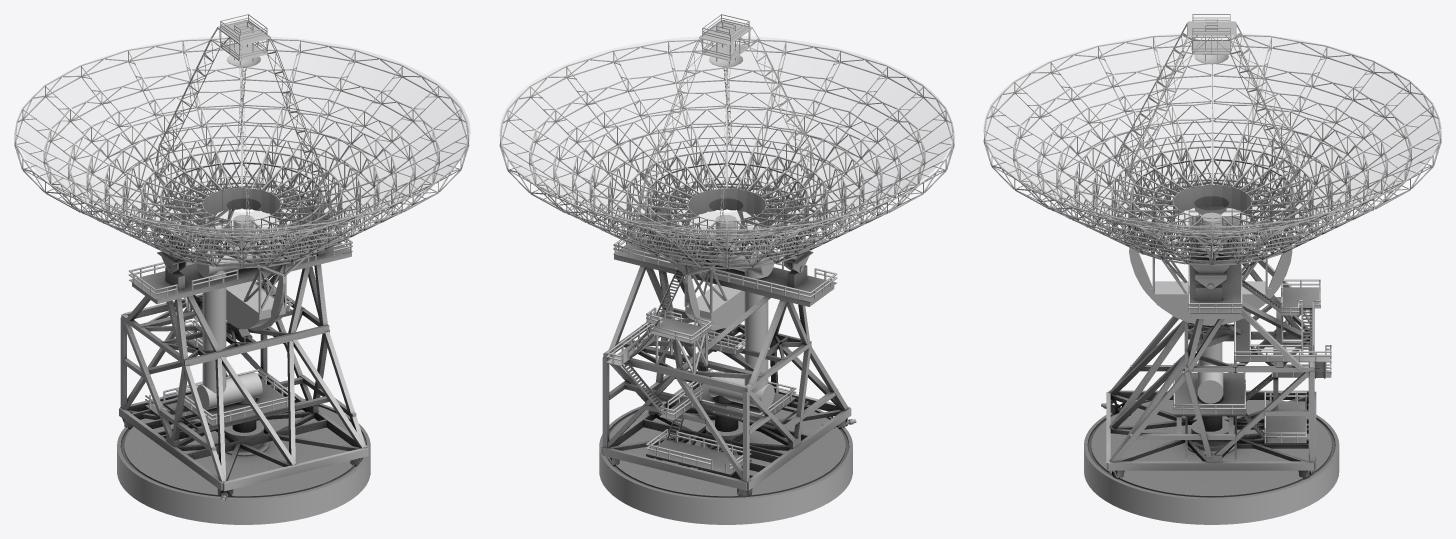
3 renders of one model, left to right at view 1: azimuth 30°, elevation 25°; view 2: azimuth 150°, elevation 25°; view 3: azimuth 270°, elevation 25°, orthographic.
Parts seen in each view (by area): view 1: dish, truss_dish, azimuth, dish_center, base, elevation, quad; view 2: dish, truss_dish, azimuth, dish_center, base, elevation, quad; view 3: dish, truss_dish, azimuth, base, dish_center, elevation, quad.
Part boxes in pixels (<box>): dish: <box>17,36,470,235</box>; truss_dish: <box>14,37,469,268</box>; azimuth: <box>119,215,368,502</box>; dish_center: <box>125,135,361,233</box>; base: <box>117,396,370,524</box>; elevation: <box>149,185,336,330</box>; quad: <box>155,14,332,233</box>; dish: <box>499,36,952,235</box>; truss_dish: <box>499,38,954,269</box>; azimuth: <box>601,215,856,497</box>; dish_center: <box>608,135,844,233</box>; base: <box>599,400,852,524</box>; elevation: <box>632,184,820,330</box>; quad: <box>637,14,814,233</box>; dish: <box>983,33,1439,233</box>; truss_dish: <box>983,34,1441,265</box>; azimuth: <box>1101,207,1331,479</box>; base: <box>1084,400,1339,524</box>; dish_center: <box>1092,132,1330,230</box>; elevation: <box>1113,181,1309,325</box>; quad: <box>1117,14,1305,210</box>.
Size of the model in its own units: 34.02 by 36.79 by 33.97.
